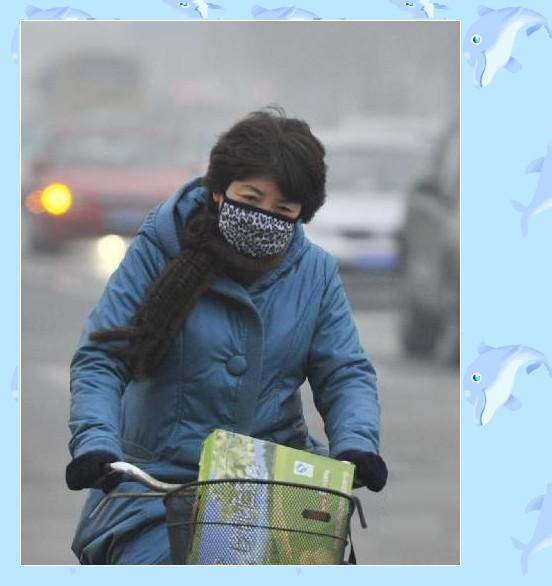OK: (222, 184, 299, 264)
